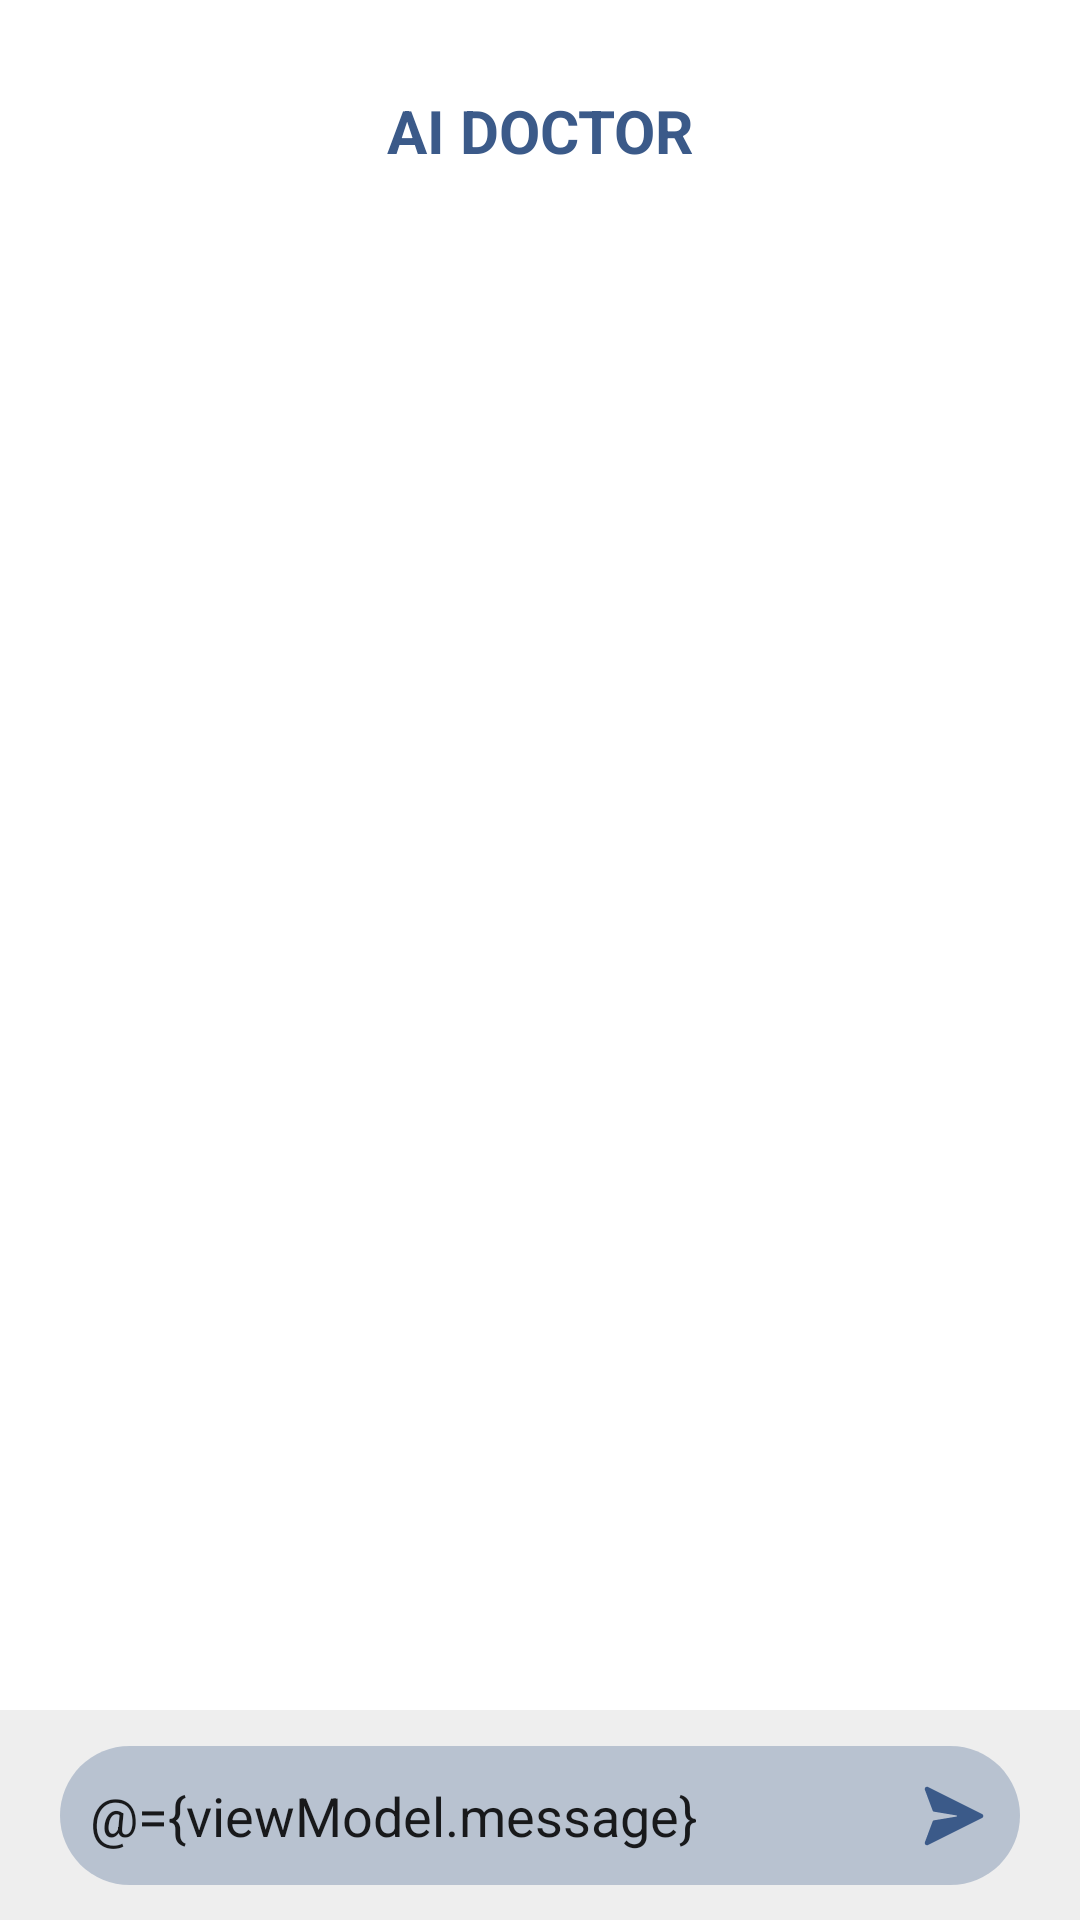

Point at icon controls on the screen. Image size 1080w x 1920h, points as point (x, y).
send: point (954, 1816)
